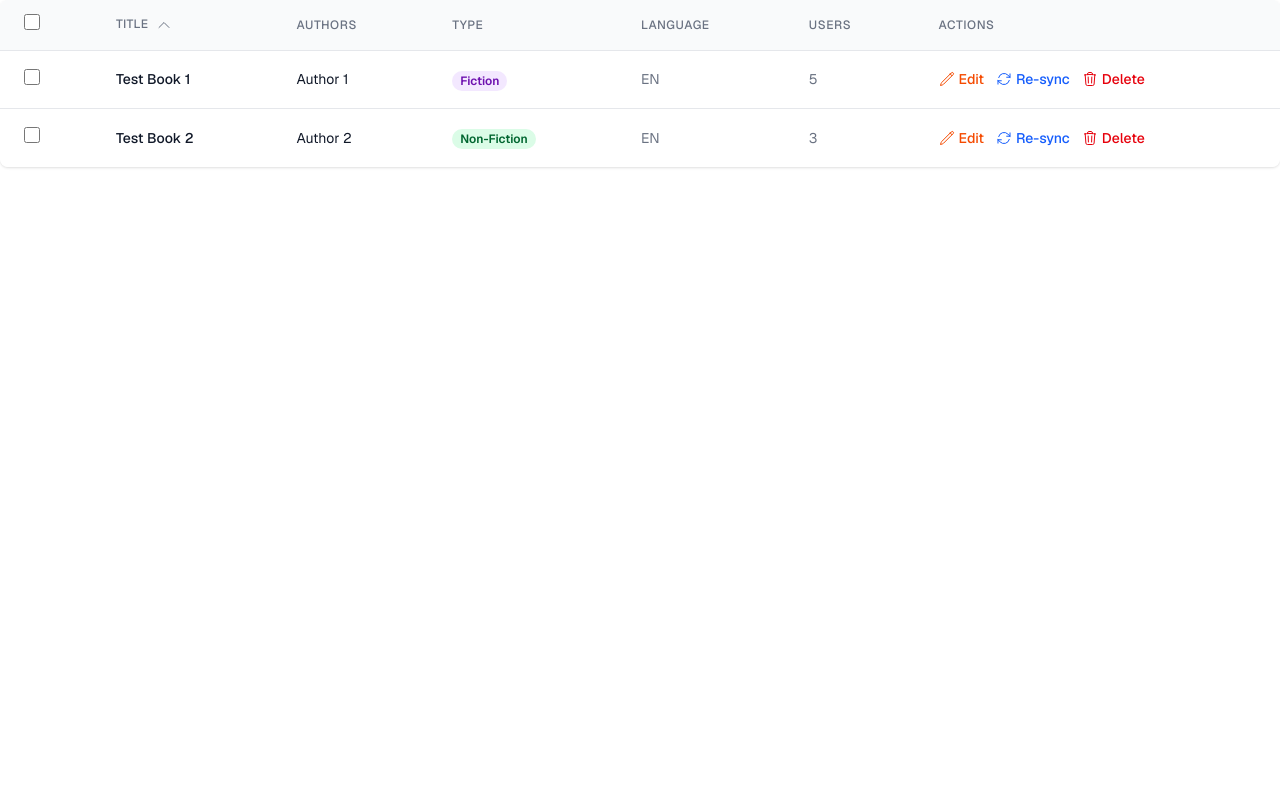
Test: BookTable Delete Functionality › clicking delete button opens DeleteBookModal
Click delete button in first row
Click the button "Delete" in the row of "Test Book 1" at (1113, 79), box x1=1082 y1=69 x2=1145 y2=89
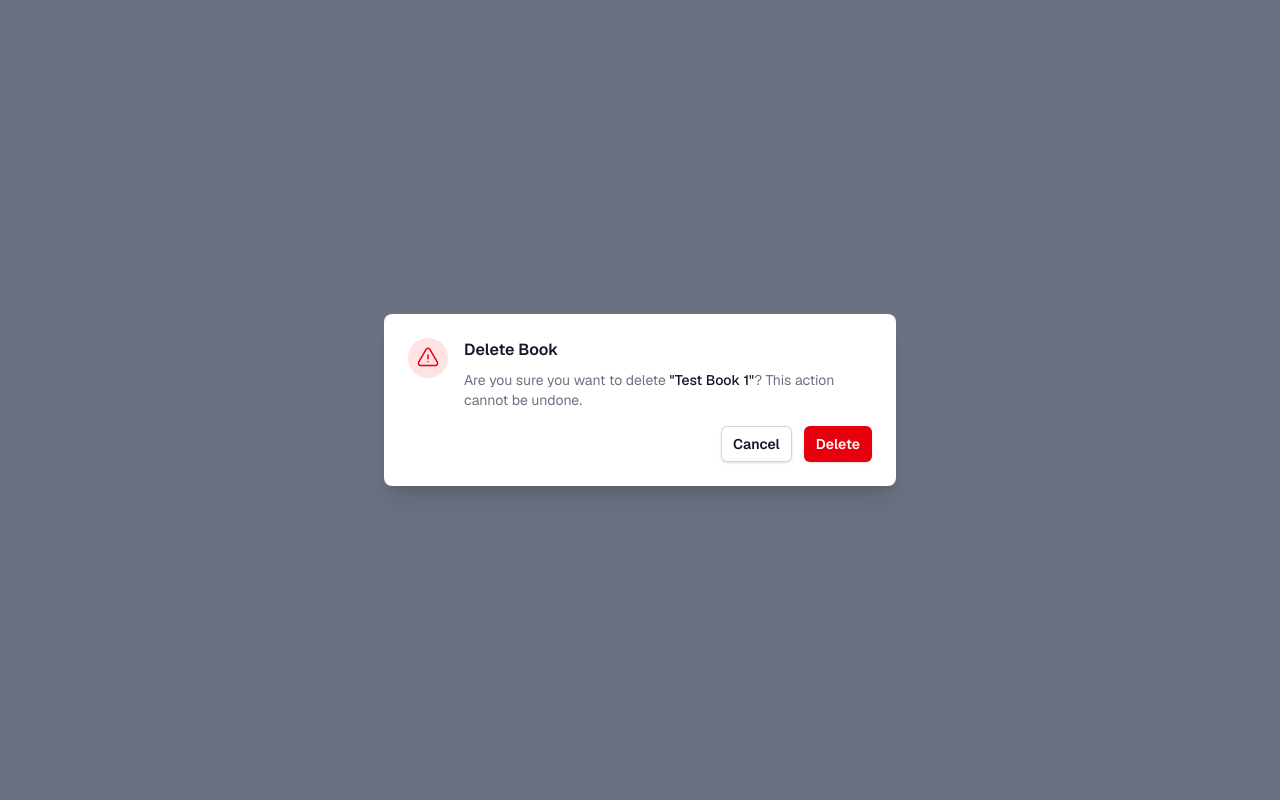
Expected: the heading "Delete Book" is shown, x1=464 y1=339 x2=558 y2=360
